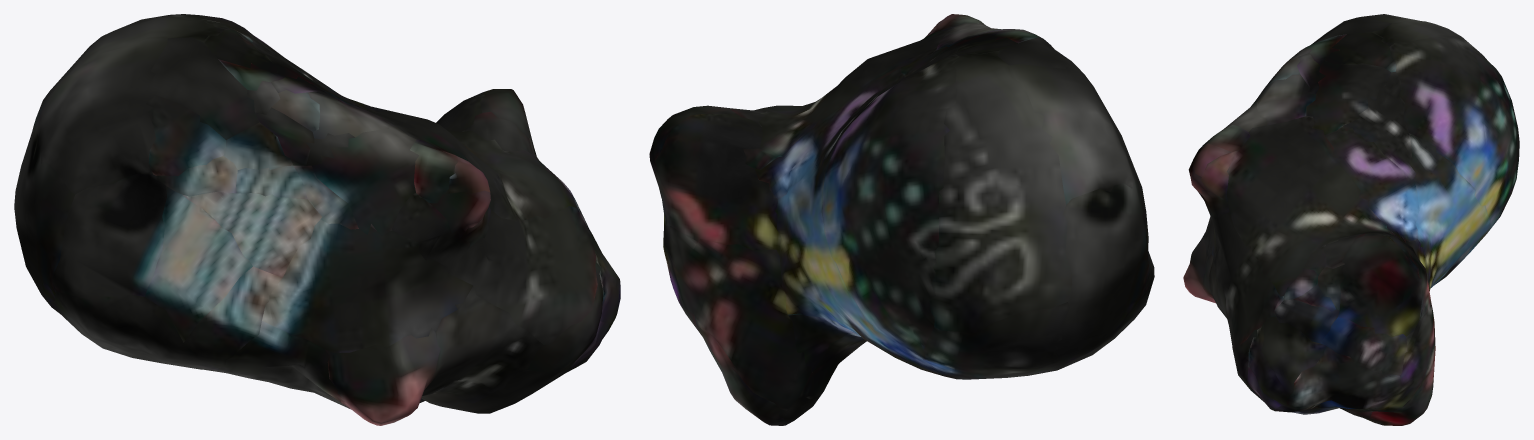
The model's file is hall.glb.
The picture shows the model from 3 angles, left to right: view 1: azimuth 30°, elevation 25°; view 2: azimuth 150°, elevation 25°; view 3: azimuth 270°, elevation 25°; orthographic projection. The views are drawn at different scales.
Size of the model in its own units: 0.6595 by 0.5131 by 0.4921.
1 material, 1 textured.
